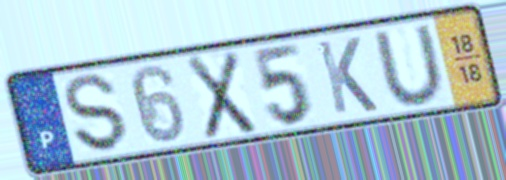5: (247, 39, 318, 129)
6: (128, 62, 189, 146)
K: (313, 34, 382, 117)
S: (62, 71, 131, 154)
U: (369, 20, 451, 108)
X: (183, 47, 260, 144)
